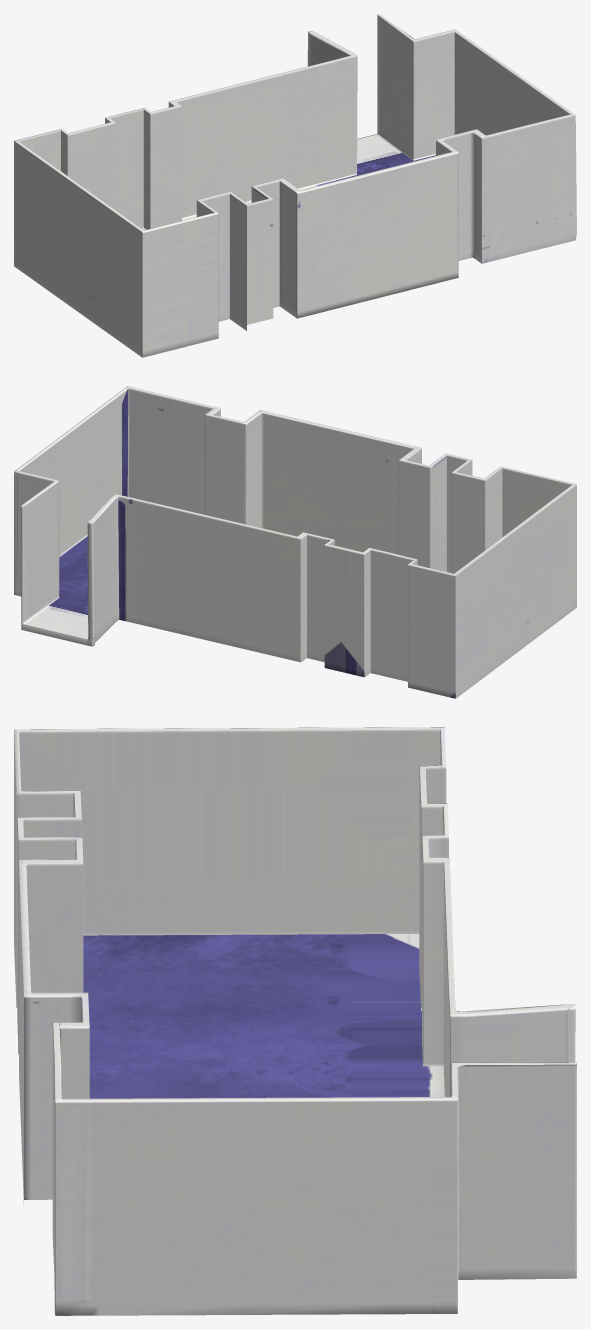
Rendered from hubRoomRealFinal.gltf.
The picture shows the model from 3 angles, top to bottom: view 1: azimuth 30°, elevation 25°; view 2: azimuth 150°, elevation 25°; view 3: azimuth 270°, elevation 25°; orthographic projection. The views are drawn at different scales.
Visible parts, largest first — view 1: ingeniumLab; view 2: ingeniumLab; view 3: ingeniumLab.
Part boxes in pixels (<box>): ingeniumLab: <box>14,14,576,357</box>; ingeniumLab: <box>14,386,576,698</box>; ingeniumLab: <box>14,727,576,1315</box>.
Bounding box in the file's own units: 6.85 × 1.84 × 4.35.
Materials: 1 (1 with a texture image).
